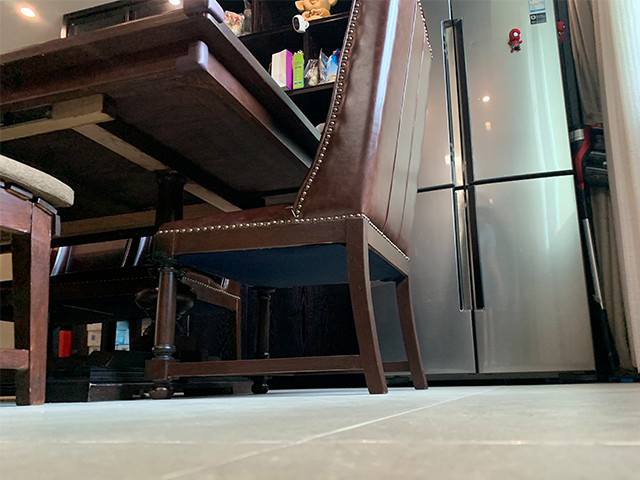curtain: (568, 1, 640, 377)
stool: (140, 1, 430, 398)
